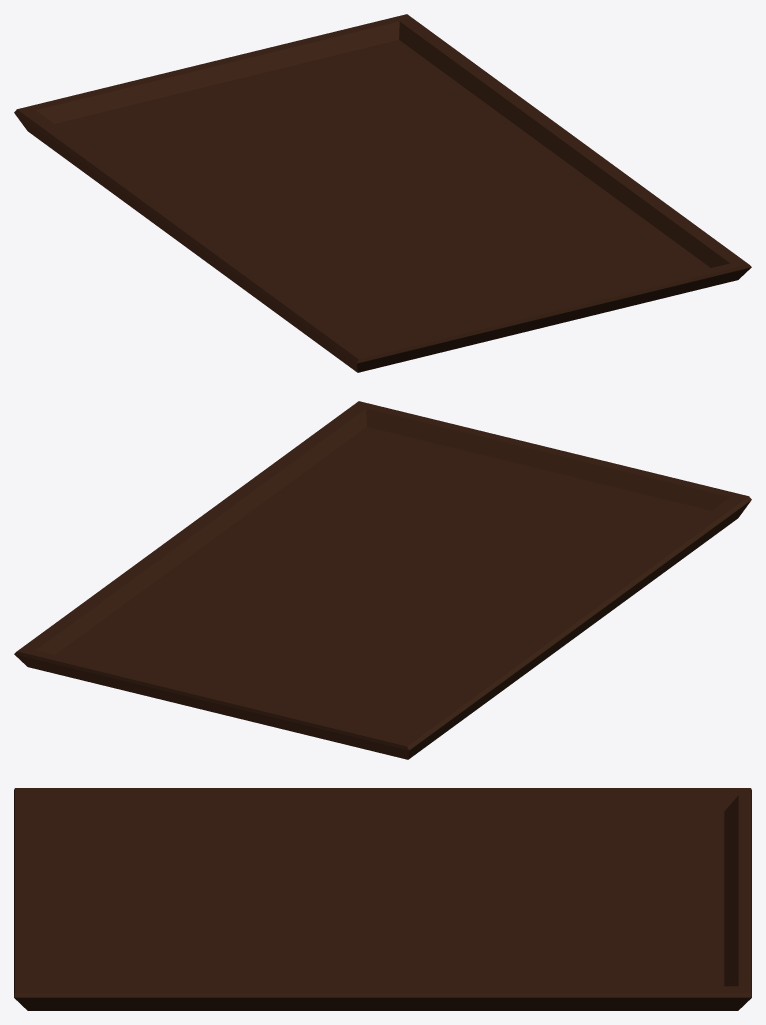
The model's file is Tray.fbx.
The picture shows the model from 3 angles, top to bottom: view 1: azimuth 30°, elevation 25°; view 2: azimuth 150°, elevation 25°; view 3: azimuth 270°, elevation 25°; orthographic projection. The views are drawn at different scales.
Visible parts, largest first — view 1: Tray; view 2: Tray; view 3: Tray.
Part boxes in pixels (<box>): Tray: <box>14,14,751,372</box>; Tray: <box>14,401,751,759</box>; Tray: <box>14,788,751,1010</box>.
Size of the model in its own units: 298 by 199 by 9.06.
